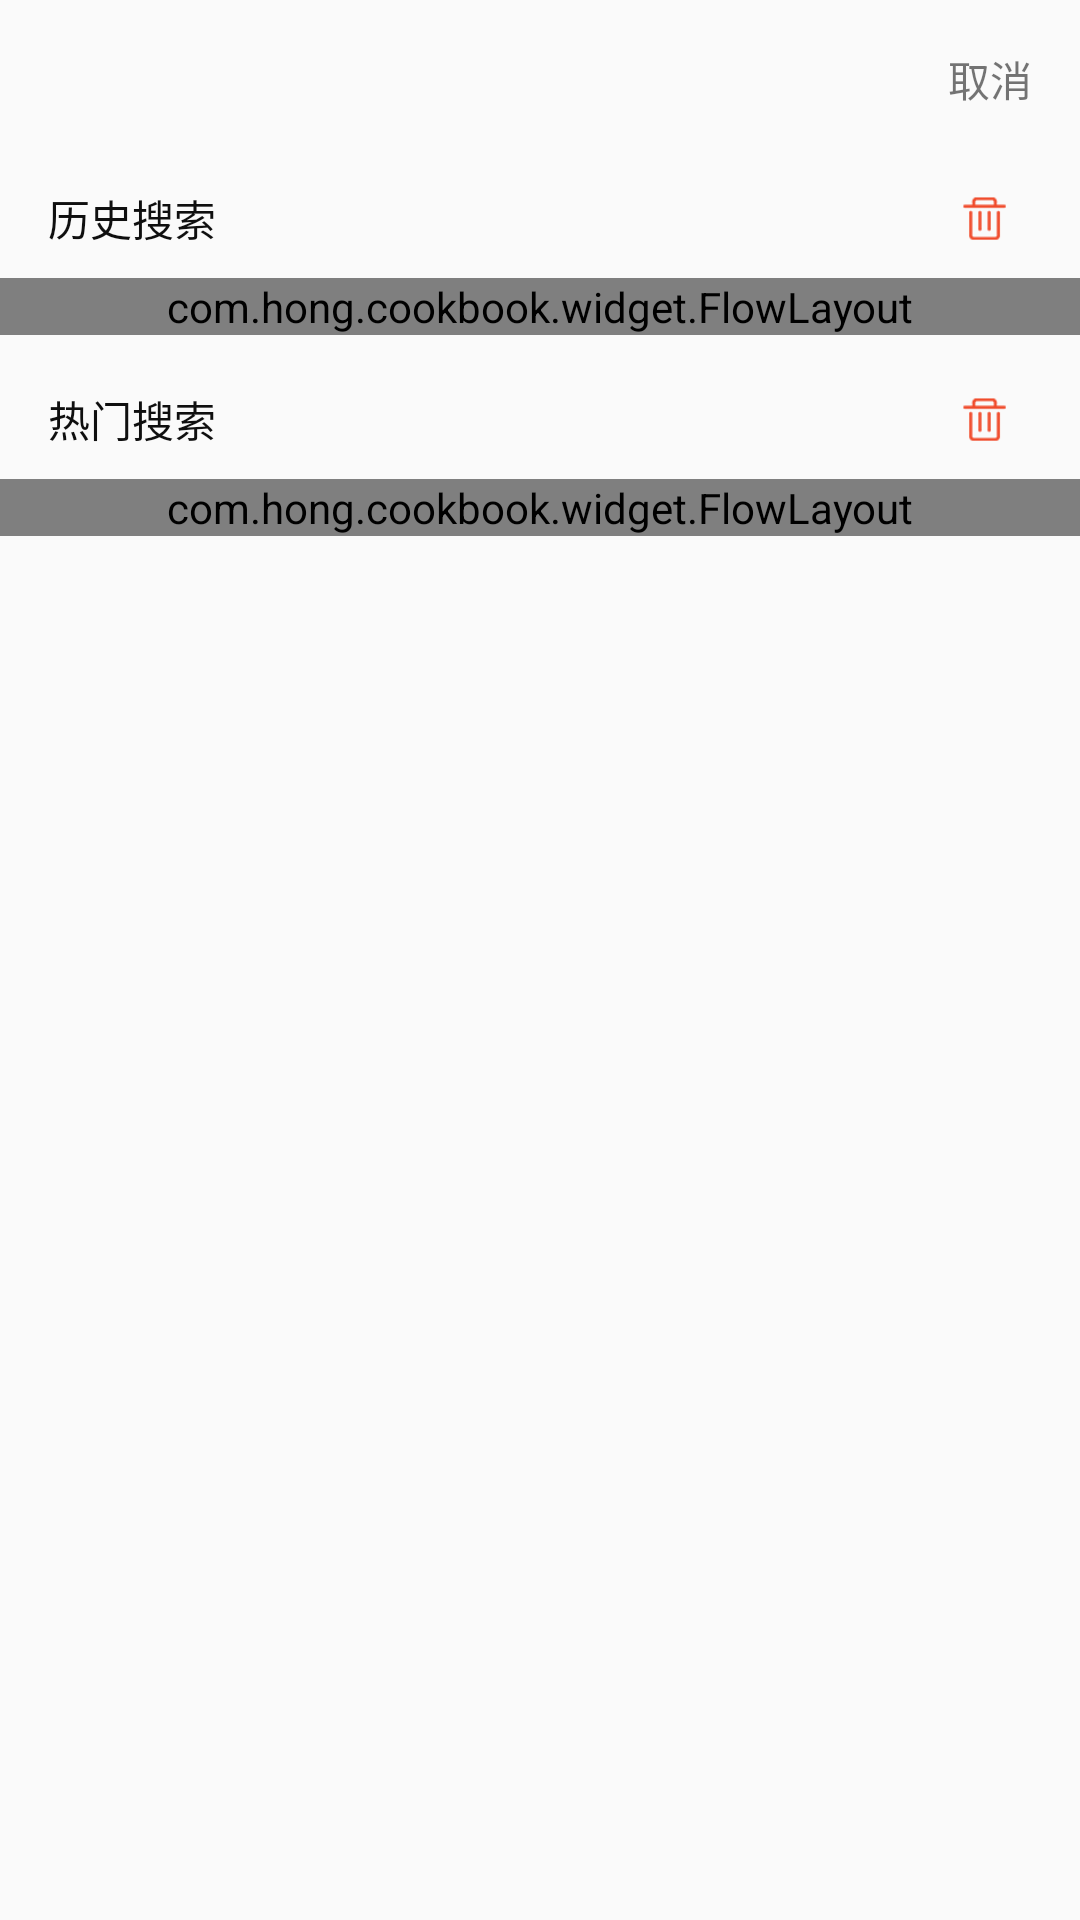

Screen size 1080 × 1920. Icon name, then its center in pixels as (x=x, y=y):
delete box: (x=984, y=218), (x=984, y=419)
